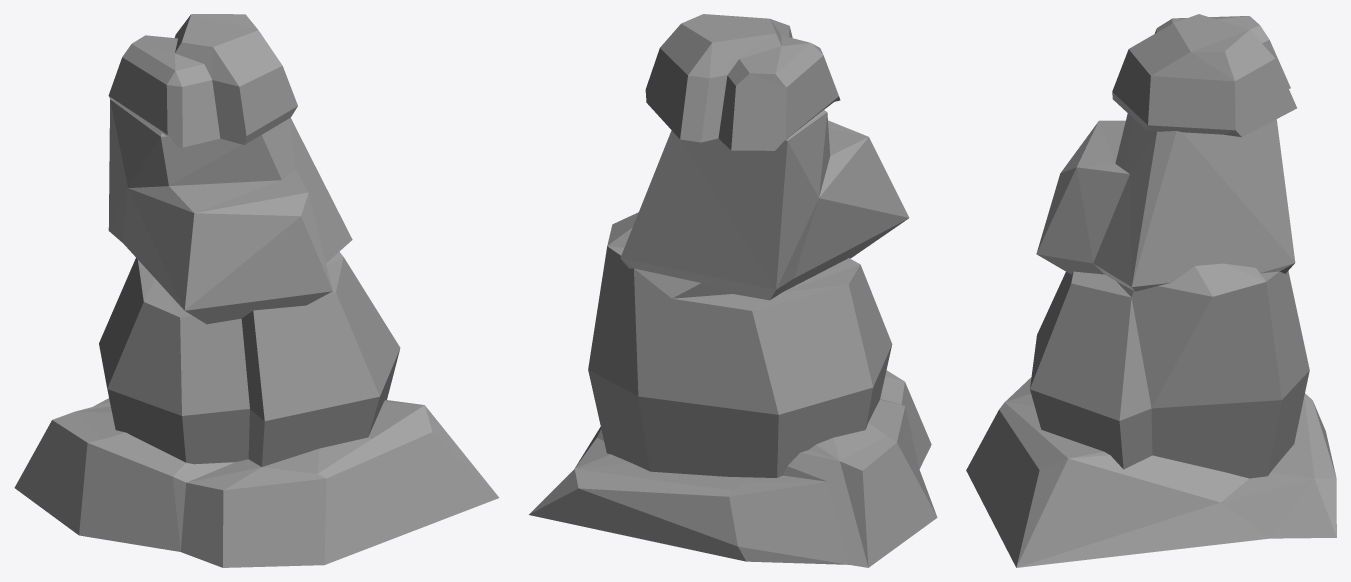
Rendered from rock__rockform_column_light.glb.
3 views of the same model, side by side, from view 1: azimuth 30°, elevation 25°; view 2: azimuth 150°, elevation 25°; view 3: azimuth 270°, elevation 25° (orthographic). The views are drawn at different scales.
Parts seen in each view (by area): view 1: rockform.column.light; view 2: rockform.column.light; view 3: rockform.column.light.
Boxes of the visible parts, x1,y1,x2,y2 form: rockform.column.light: (14,14,499,567); rockform.column.light: (529,14,937,567); rockform.column.light: (966,14,1336,567).
Bounding box in the file's own units: 12.37 × 14.87 × 11.23.
Materials: 1 (1 with a texture image).
